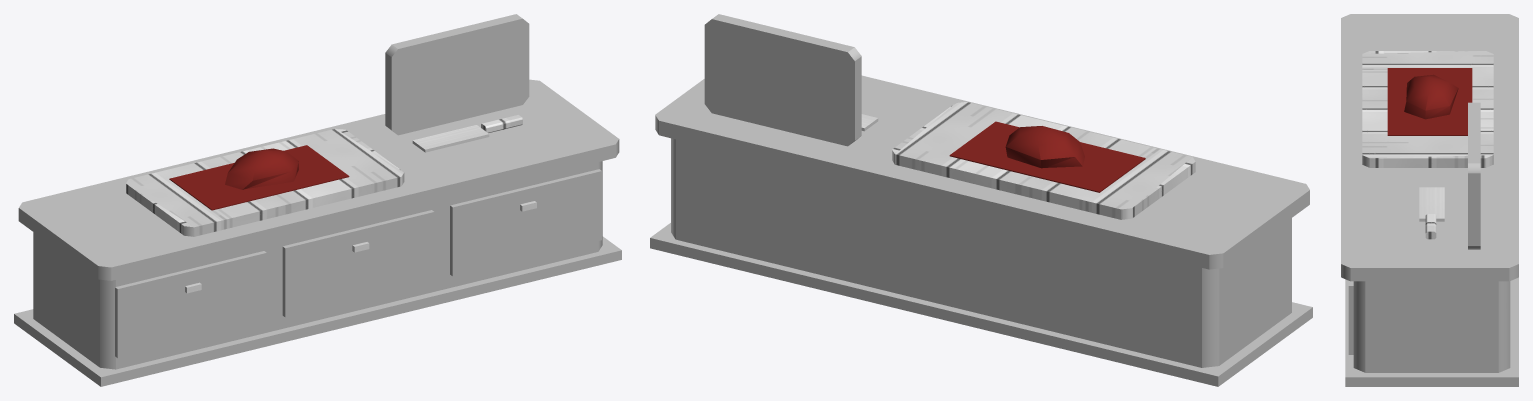
Rendered from bench_butcher.obj.
The picture shows the model from 3 angles, left to right: view 1: azimuth 30°, elevation 25°; view 2: azimuth 150°, elevation 25°; view 3: azimuth 270°, elevation 25°; orthographic projection. The views are drawn at different scales.
Visible parts, largest first — view 1: worktop, cabinet, tool_backboard, cutting_board, middle_door, left_door, right_door, plinth, blood_surface, meat, cleaver_blade; view 2: cabinet, worktop, tool_backboard, cutting_board, plinth, blood_surface, meat; view 3: worktop, cabinet, cutting_board, blood_surface, plinth, tool_backboard, meat, cleaver_blade, right_door, cleaver_handle.
Part boxes in pixels (bbox=[...]): worktop: bbox=[18, 79, 619, 280]; cabinet: bbox=[33, 161, 602, 369]; tool_backboard: bbox=[385, 14, 529, 135]; cutting_board: bbox=[126, 128, 404, 236]; middle_door: bbox=[282, 210, 434, 317]; left_door: bbox=[115, 251, 266, 358]; right_door: bbox=[450, 169, 601, 276]; plinth: bbox=[14, 236, 621, 386]; blood_surface: bbox=[169, 145, 349, 210]; meat: bbox=[225, 148, 298, 189]; cleaver_blade: bbox=[412, 125, 489, 152]; cabinet: bbox=[671, 138, 1291, 367]; worktop: bbox=[655, 75, 1309, 269]; tool_backboard: bbox=[704, 14, 861, 146]; cutting_board: bbox=[892, 102, 1195, 219]; plinth: bbox=[650, 223, 1312, 386]; blood_surface: bbox=[949, 121, 1145, 192]; meat: bbox=[1005, 126, 1084, 168]; worktop: bbox=[1341, 14, 1518, 281]; cabinet: bbox=[1353, 281, 1510, 372]; cutting_board: bbox=[1362, 51, 1493, 167]; blood_surface: bbox=[1387, 68, 1472, 135]; plinth: bbox=[1345, 277, 1518, 386]; tool_backboard: bbox=[1468, 102, 1480, 249]; meat: bbox=[1404, 74, 1458, 119]; cleaver_blade: bbox=[1419, 187, 1444, 221]; right_door: bbox=[1348, 281, 1353, 354]; cleaver_handle: bbox=[1425, 214, 1436, 239].
Size of the model in its own units: 2.84 by 1.07 by 0.84.
